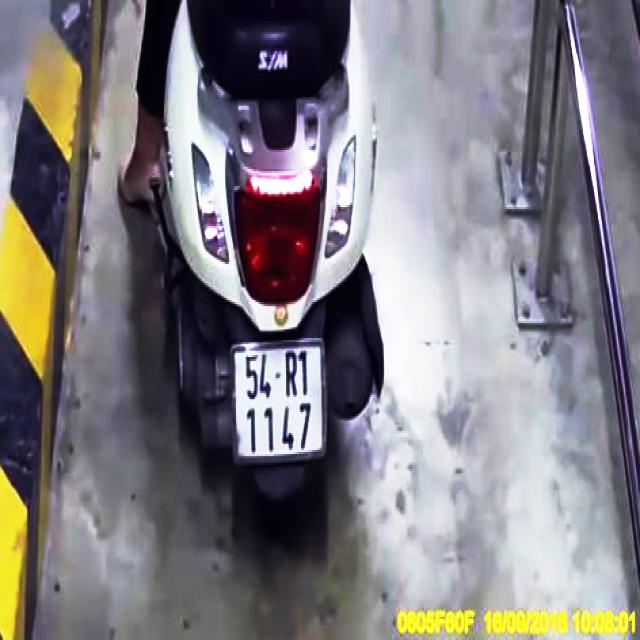license_plate: (234, 340, 327, 460)
